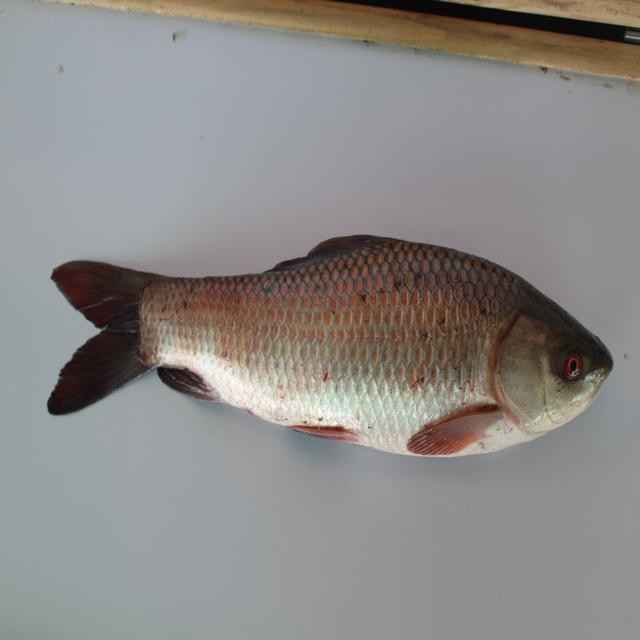Rohu: (42, 226, 617, 483)
